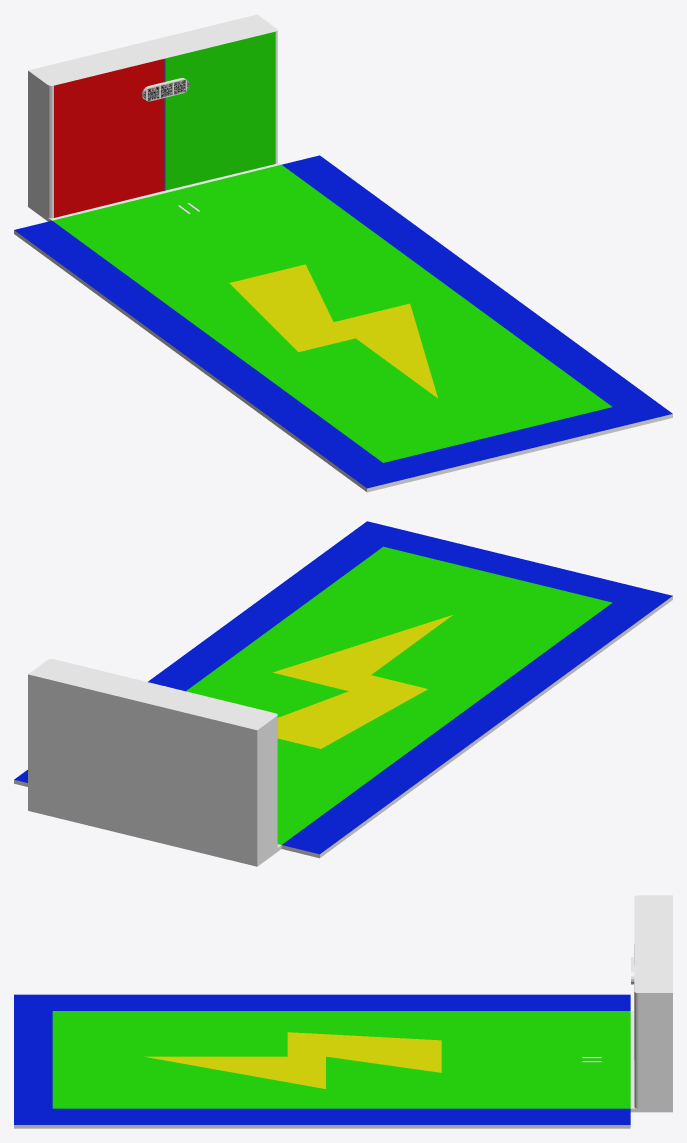
The model's file is sarjistasyonu.dae.
3 views of the same model, one above another, from view 1: azimuth 30°, elevation 25°; view 2: azimuth 150°, elevation 25°; view 3: azimuth 270°, elevation 25° (orthographic). The views are drawn at different scales.
Visible parts, largest first — view 1: Sarjdeneme; view 2: Sarjdeneme; view 3: Sarjdeneme.
Part boxes in pixels (bbox=[...]): Sarjdeneme: bbox=[14, 14, 672, 492]; Sarjdeneme: bbox=[14, 521, 672, 866]; Sarjdeneme: bbox=[14, 895, 672, 1128].
Bounding box in the file's own units: 0.8 × 1.71 × 0.341.
